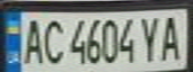0: (103, 16, 121, 65)
4: (66, 15, 87, 65), (118, 15, 139, 64)
6: (84, 16, 103, 65)
A: (157, 11, 187, 62), (18, 15, 45, 65)
C: (39, 15, 66, 65)
Y: (136, 12, 163, 63)
